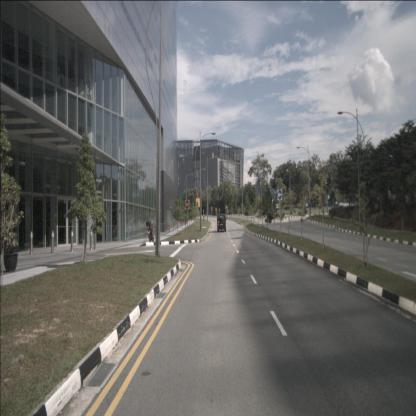vehicle-car: (217, 214, 226, 232), (264, 216, 272, 223)
vehicle-motorcycle: (146, 220, 154, 242)
